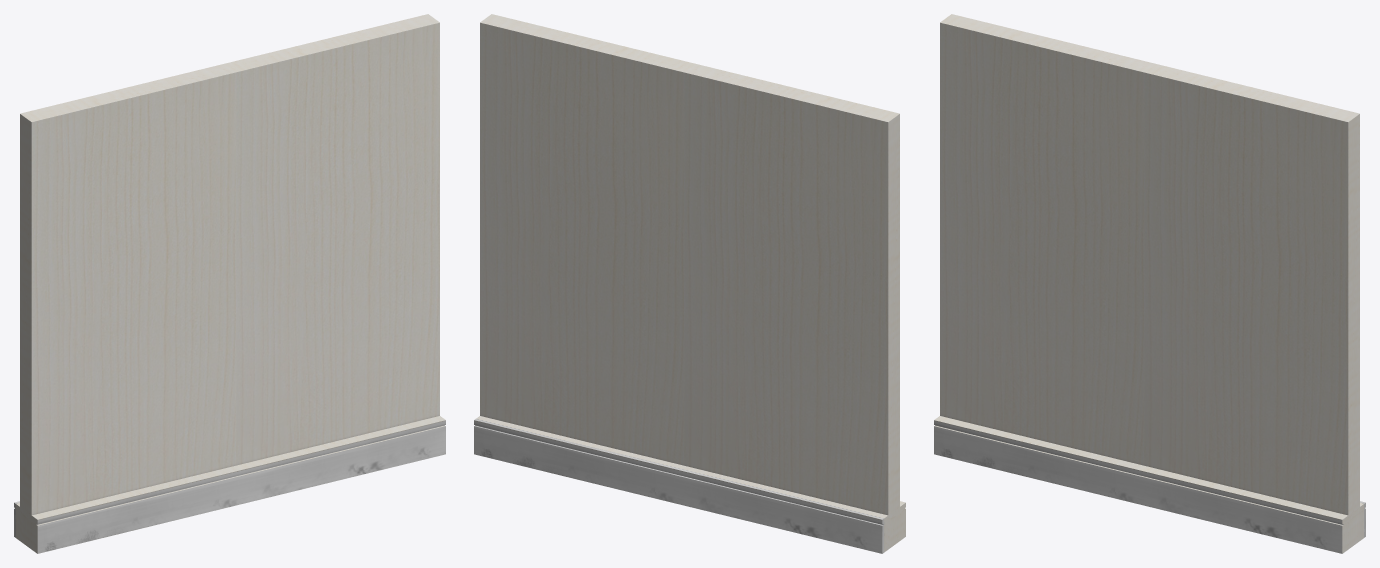
The model's file is WallDouble_SM.FBX.
The picture shows the model from 3 angles, left to right: view 1: azimuth 30°, elevation 25°; view 2: azimuth 150°, elevation 25°; view 3: azimuth 330°, elevation 25°; orthographic projection.
Parts seen in each view (by area): view 1: ModularWall001; view 2: ModularWall001; view 3: ModularWall001.
Boxes of the visible parts, box(x1,y1,x2,y2) form: ModularWall001: box(14, 14, 445, 553); ModularWall001: box(474, 14, 905, 553); ModularWall001: box(934, 14, 1365, 553).
Bounding box in the file's own units: 400 × 40 × 400.
1 material, 1 textured.
